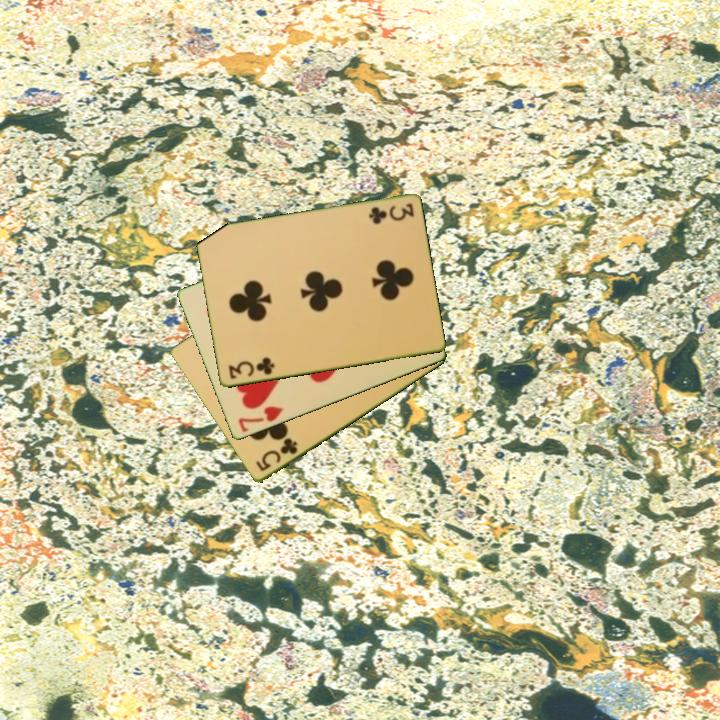3c: (224, 354, 277, 382), (365, 200, 417, 226)
5c: (252, 435, 300, 475)
7h: (234, 403, 286, 436)
